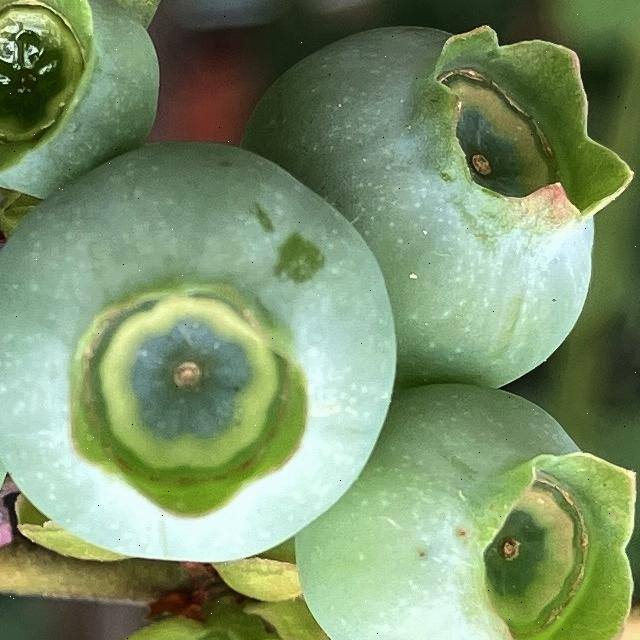Blueberries: (0, 141, 398, 568), (0, 0, 175, 213)
